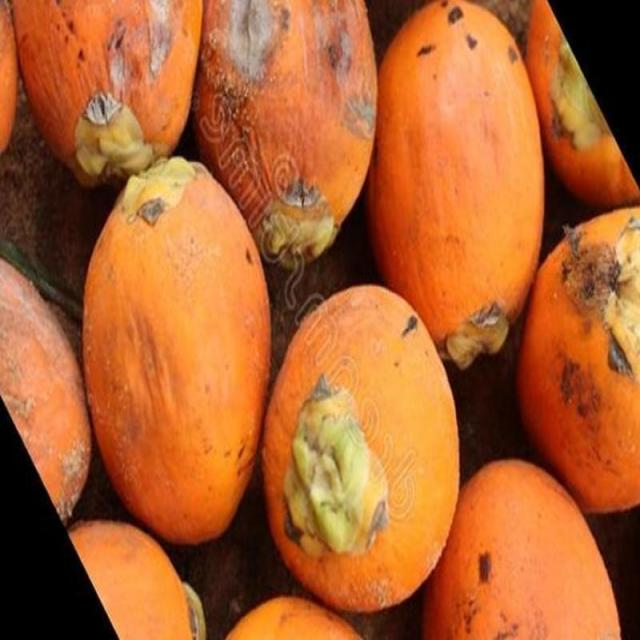good: (79, 97, 278, 551), (364, 0, 547, 373), (260, 287, 462, 618), (186, 0, 380, 270), (516, 209, 639, 516), (418, 462, 622, 639)
